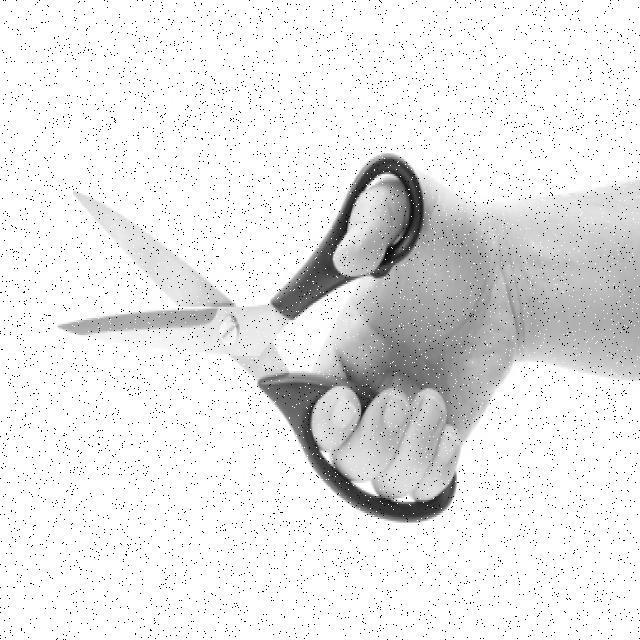scissors: (51, 148, 458, 526)
